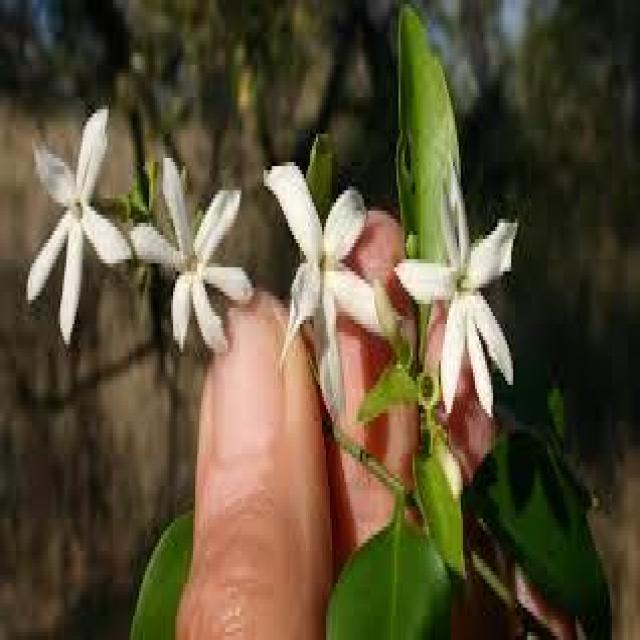organic waste: (258, 150, 399, 409), (398, 168, 522, 423), (19, 100, 136, 346), (134, 147, 248, 370)
